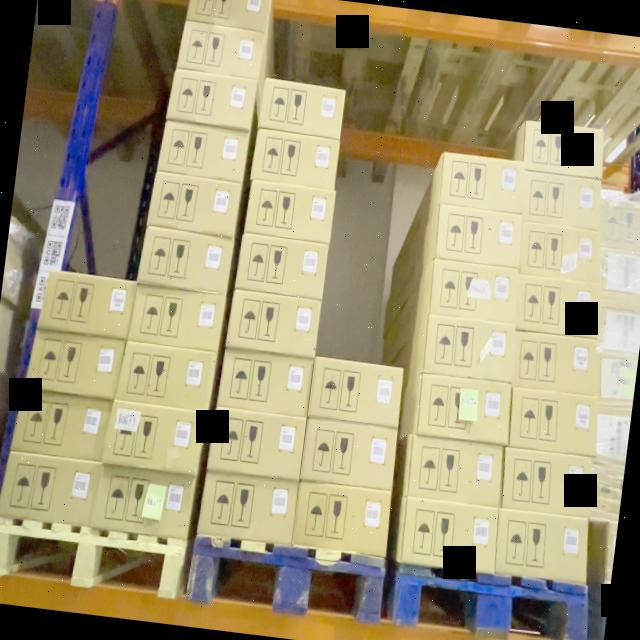box: (300, 416, 401, 492), (294, 482, 395, 556), (306, 354, 406, 428), (399, 497, 499, 571), (94, 466, 195, 538), (127, 282, 228, 354), (198, 472, 298, 544), (1, 454, 101, 526), (223, 289, 324, 359), (499, 446, 597, 518), (496, 509, 592, 582), (104, 402, 204, 472), (210, 408, 307, 480), (406, 436, 504, 506), (42, 270, 140, 340), (233, 232, 332, 300), (14, 390, 108, 460), (416, 375, 511, 444), (146, 172, 244, 238), (28, 331, 123, 399), (218, 350, 312, 418), (138, 227, 234, 293), (118, 343, 214, 409), (422, 316, 518, 380), (508, 389, 598, 457), (168, 70, 262, 132), (428, 260, 519, 324), (434, 205, 524, 269), (246, 181, 336, 243), (175, 20, 267, 80), (159, 122, 251, 182), (252, 128, 341, 190), (439, 152, 528, 214), (260, 79, 348, 140), (516, 275, 600, 338), (518, 220, 602, 283), (512, 331, 596, 394), (522, 120, 608, 178), (523, 172, 604, 228), (187, 0, 270, 31), (590, 402, 630, 462), (594, 350, 638, 403), (597, 244, 640, 293), (599, 199, 640, 250), (588, 462, 624, 518)
